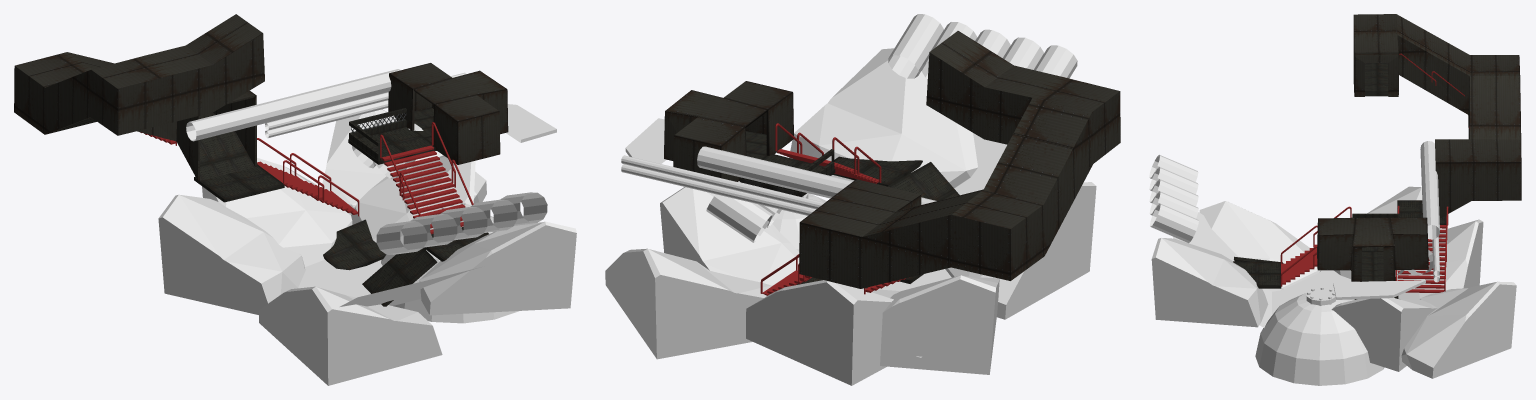
File: Level 5.fbx
3 renders of one model, left to right at view 1: azimuth 30°, elevation 25°; view 2: azimuth 150°, elevation 25°; view 3: azimuth 270°, elevation 25°, orthographic. The views are drawn at different scales.
Parts seen in each view (by area): view 1: Ship Top Deck sewer to helipad corridor, Level 5Icosphere.005, Level 5Icosphere.007, Level 5Icosphere.002, Level 5lab to sewer corridor, Level 5Icosphere.006, Level 5Dome Pipes.005, Level 5Dome Pipes.003, Level 5Level 2 Stairs.009, Level 5Icosphere.004, Level 5Icosphere.003, Level 53 sewer floor (+14 smaller); view 2: Ship Top Deck sewer to helipad corridor, Level 5Icosphere.002, Level 5Icosphere.003, Level 5Icosphere.006, Level 5Icosphere.005, Level 5lab to sewer corridor, Level 5Icosphere.004, Level 5Icosphere.007, Level 5Dome Pipes.005, Level 5Dome Pipes.003, Level 5Dome Pipes.008, Level 53 sewer floor (+11 smaller); view 3: Ship Top Deck sewer to helipad corridor, Level 5Dome.006, Level 5Icosphere.002, Level 5Icosphere.003, Level 5lab to sewer corridor, Level 5Icosphere.004, Level 5Icosphere.007, Level 5Dome Pipes.005, Level 5Icosphere.006, Level 53 sewer floor, Level 5Dome Pipes.003, Level 5Cube.010 (+7 smaller).
Part boxes in pixels (x1,y1,x2,y2): Ship Top Deck sewer to helipad corridor: (14, 14, 264, 180); Level 5Icosphere.005: (158, 194, 305, 314); Level 5Icosphere.007: (259, 286, 442, 385); Level 5Icosphere.002: (419, 221, 576, 315); Level 5lab to sewer corridor: (388, 63, 508, 164); Level 5Icosphere.006: (202, 158, 352, 266); Level 5Dome Pipes.005: (376, 192, 547, 254); Level 5Dome Pipes.003: (186, 69, 400, 141); Level 5Level 2 Stairs.009: (380, 122, 473, 234); Level 5Icosphere.004: (351, 155, 475, 242); Level 5Icosphere.003: (321, 109, 486, 214); Level 53 sewer floor: (298, 260, 481, 306); Ship Top Deck sewer to helipad corridor: (799, 31, 1120, 288); Level 5Icosphere.002: (789, 48, 977, 188); Level 5Icosphere.003: (605, 248, 771, 359); Level 5Icosphere.006: (746, 280, 900, 385); Level 5Icosphere.005: (880, 275, 999, 374); Level 5lab to sewer corridor: (664, 81, 793, 181); Level 5Icosphere.004: (660, 187, 799, 286); Level 5Icosphere.007: (945, 182, 1096, 319); Level 5Dome Pipes.005: (888, 14, 1077, 78); Level 5Dome Pipes.003: (697, 146, 936, 204); Level 5Dome Pipes.008: (706, 181, 781, 242); Level 53 sewer floor: (878, 133, 1006, 357); Ship Top Deck sewer to helipad corridor: (1353, 14, 1521, 218); Level 5Dome.006: (1255, 287, 1384, 385); Level 5Icosphere.002: (1151, 238, 1268, 327); Level 5Icosphere.003: (1401, 281, 1516, 378); Level 5lab to sewer corridor: (1317, 217, 1428, 281); Level 5Icosphere.004: (1331, 298, 1437, 371); Level 5Icosphere.007: (1199, 201, 1320, 291); Level 5Dome Pipes.005: (1149, 154, 1198, 243); Level 5Icosphere.006: (1395, 219, 1483, 299); Level 53 sewer floor: (1173, 212, 1351, 327); Level 5Dome Pipes.003: (1420, 141, 1439, 239); Level 5Cube.010: (1333, 280, 1425, 299).
Size of the model in its own units: 2455 by 1543 by 2249.
